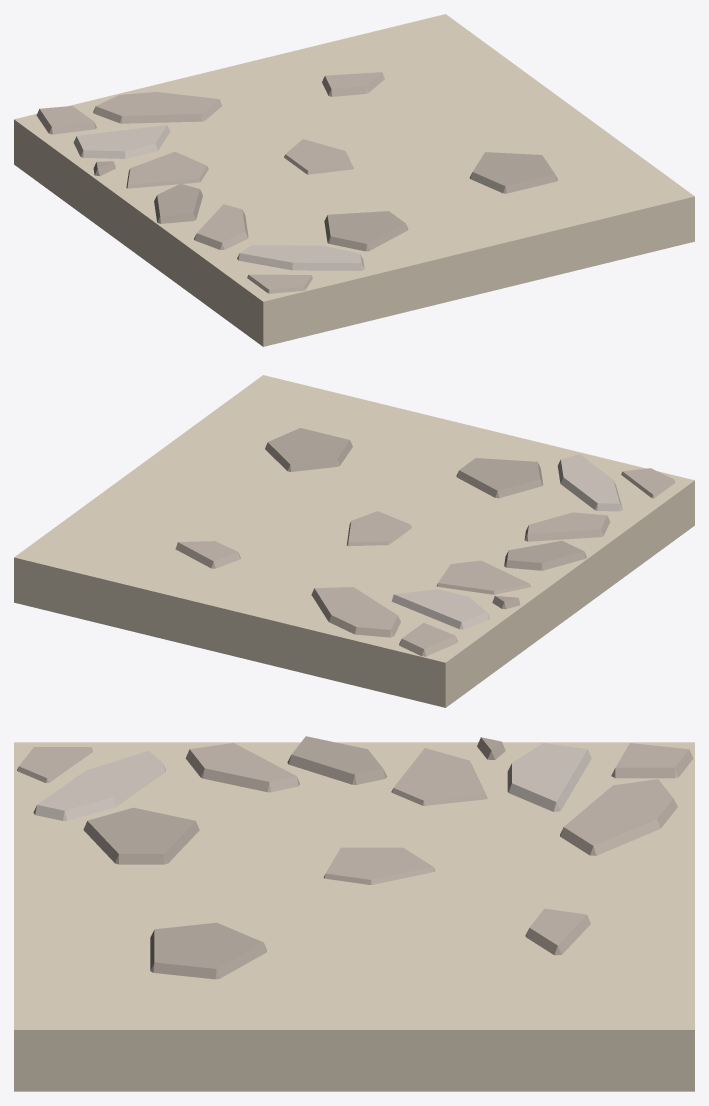
Rendered from object1_135-col.gltf.
The picture shows the model from 3 angles, top to bottom: view 1: azimuth 30°, elevation 25°; view 2: azimuth 150°, elevation 25°; view 3: azimuth 270°, elevation 25°; orthographic projection. The views are drawn at different scales.
Parts seen in each view (by area): view 1: object1.135-col; view 2: object1.135-col; view 3: object1.135-col.
Part boxes in pixels (box(x1,y1,x2,y2)): object1.135-col: box(14, 14, 694, 346); object1.135-col: box(14, 375, 694, 707); object1.135-col: box(14, 736, 694, 1091).
Bounding box in the file's own units: 2 × 0.2281 × 2.
